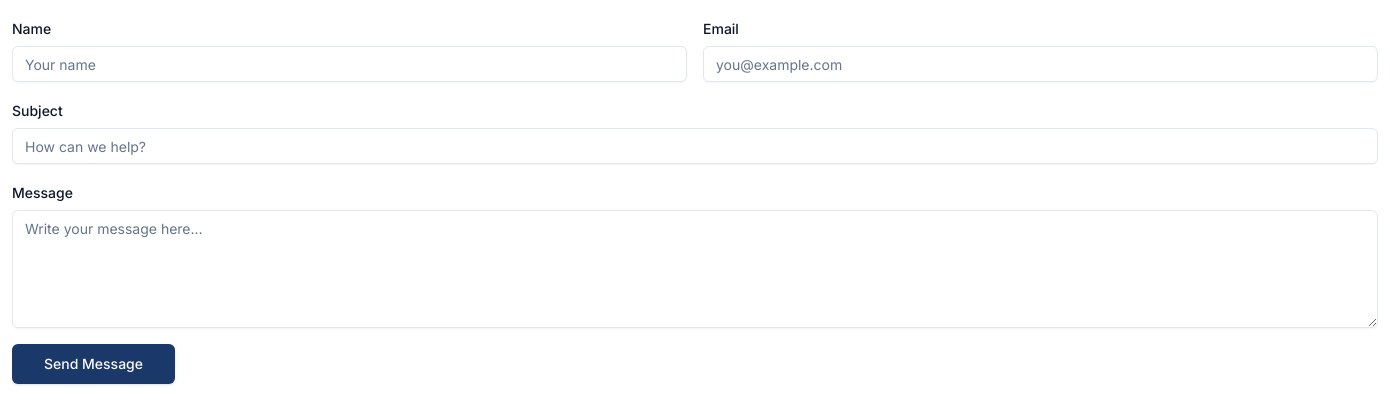
Test: ContactForm › success state › shows "Message Sent!" after a successful submission
In the field labelled "Name": (350, 64) [12,46,687,82], type "John"
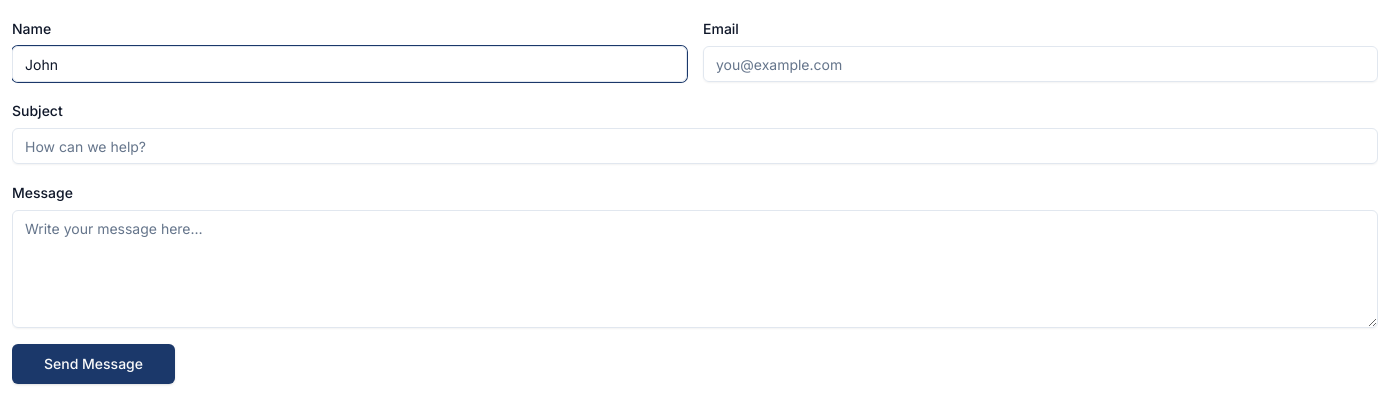
In the field labelled "Email": (1040, 64) [703,46,1378,82], type "john@example.com"
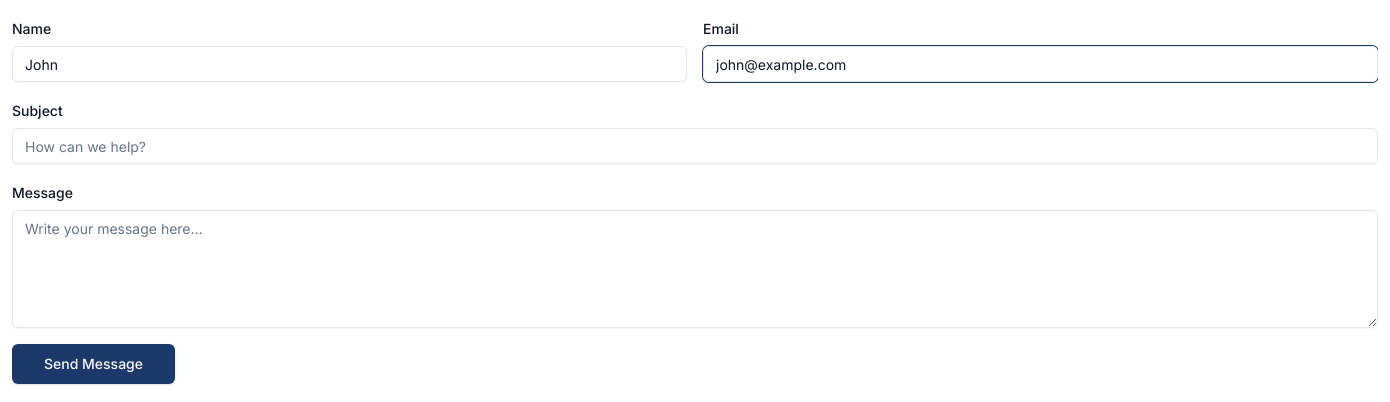
In the field labelled "Subject": (695, 146) [12,128,1378,164], type "Hello"
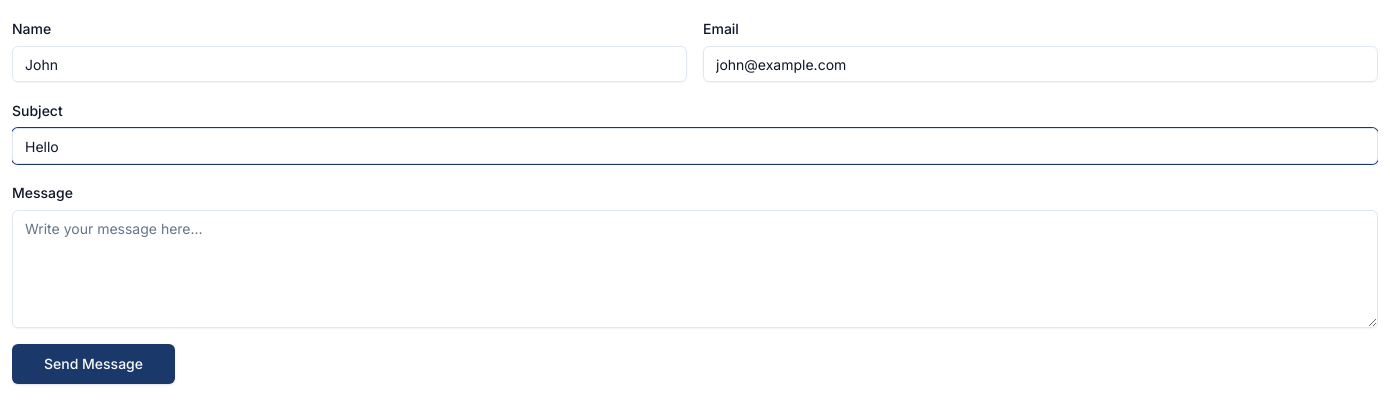
In the text box labelled "Message": (695, 269) [12,210,1378,328], type "Test message"
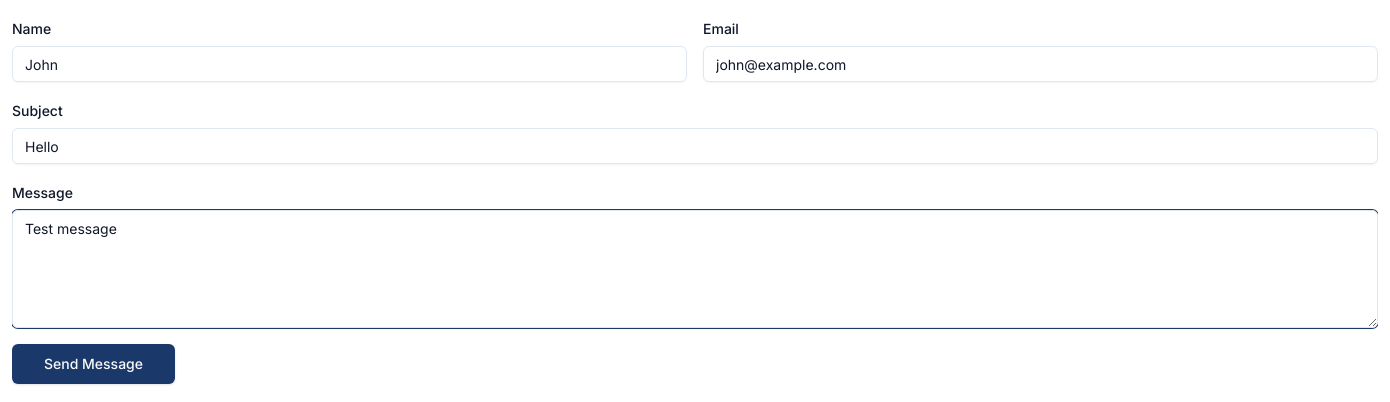
Click the button "Send Message": click(94, 364) [12,344,175,384]
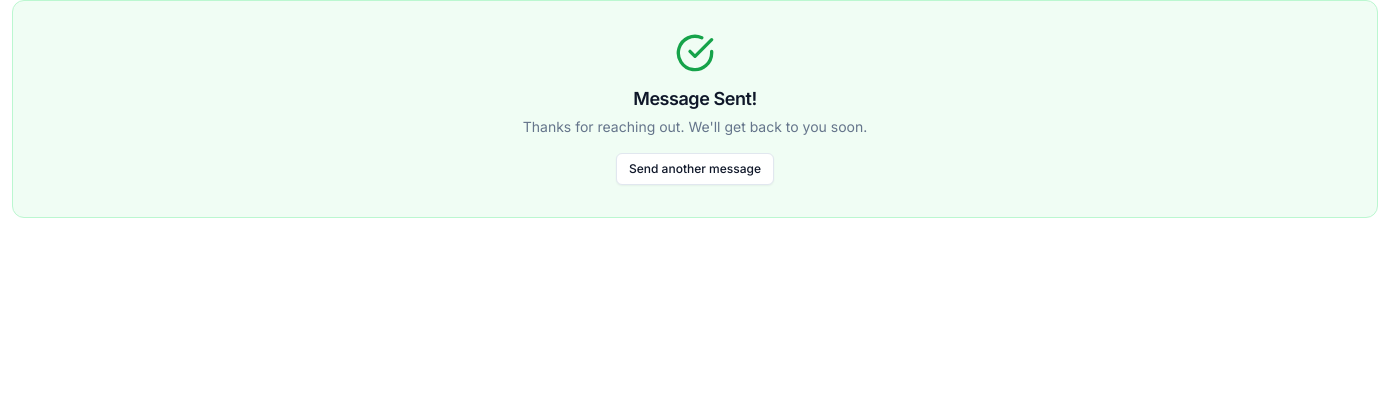
Expected: the heading "Message Sent!" is shown, [633,85,757,113]
